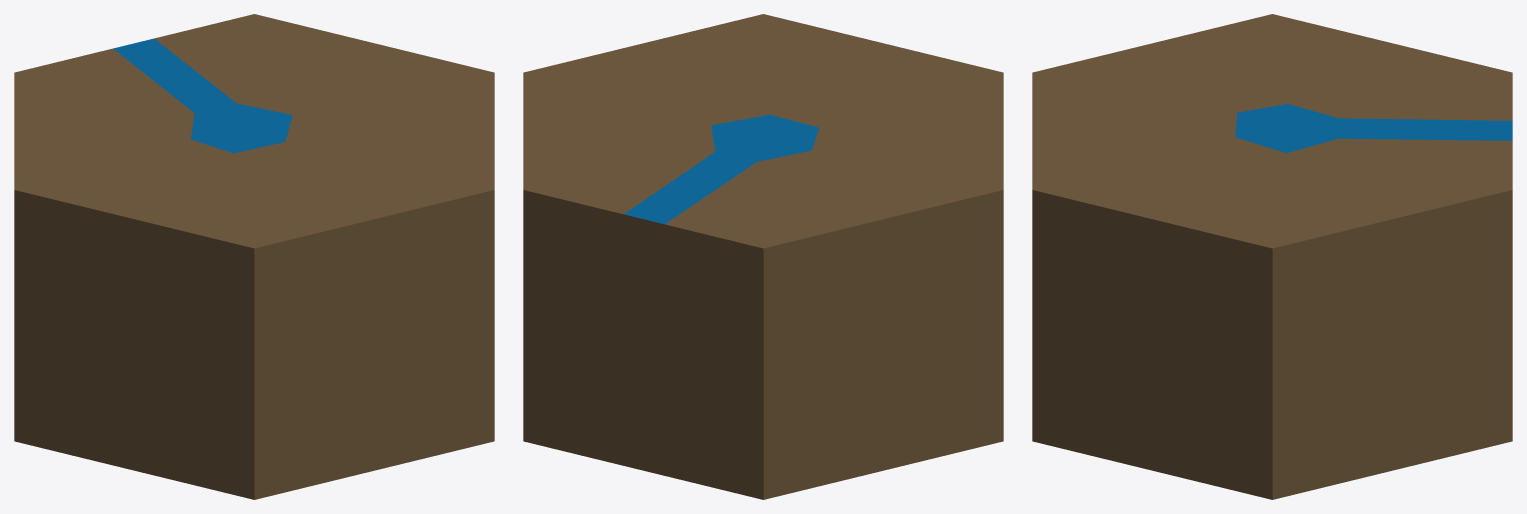
Rendered from Hexagon1.fbx.
The picture shows the model from 3 angles, left to right: view 1: azimuth 30°, elevation 25°; view 2: azimuth 150°, elevation 25°; view 3: azimuth 270°, elevation 25°; orthographic projection.
Visible parts, largest first — view 1: Cylinder; view 2: Cylinder; view 3: Cylinder.
Boxes of the visible parts, bbox=[...] form: Cylinder: bbox=[14, 14, 494, 499]; Cylinder: bbox=[523, 14, 1003, 499]; Cylinder: bbox=[1032, 14, 1512, 499].
Size of the model in its own units: 1000 by 500 by 866.
